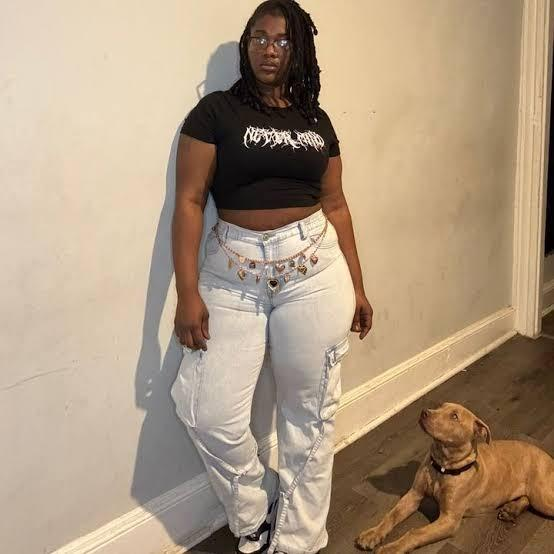adult_dog: (355, 402, 554, 554)
non-dog: (165, 1, 373, 554)
